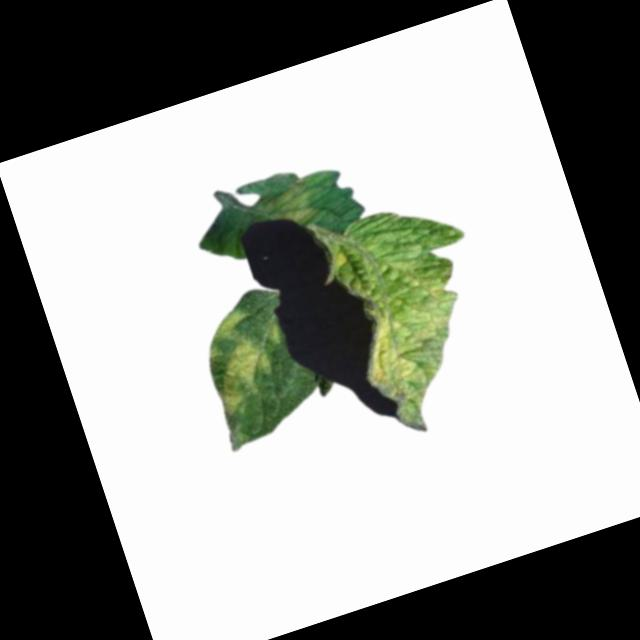Leaf_Mold: (340, 265, 480, 408), (192, 302, 282, 419), (258, 179, 318, 232)
